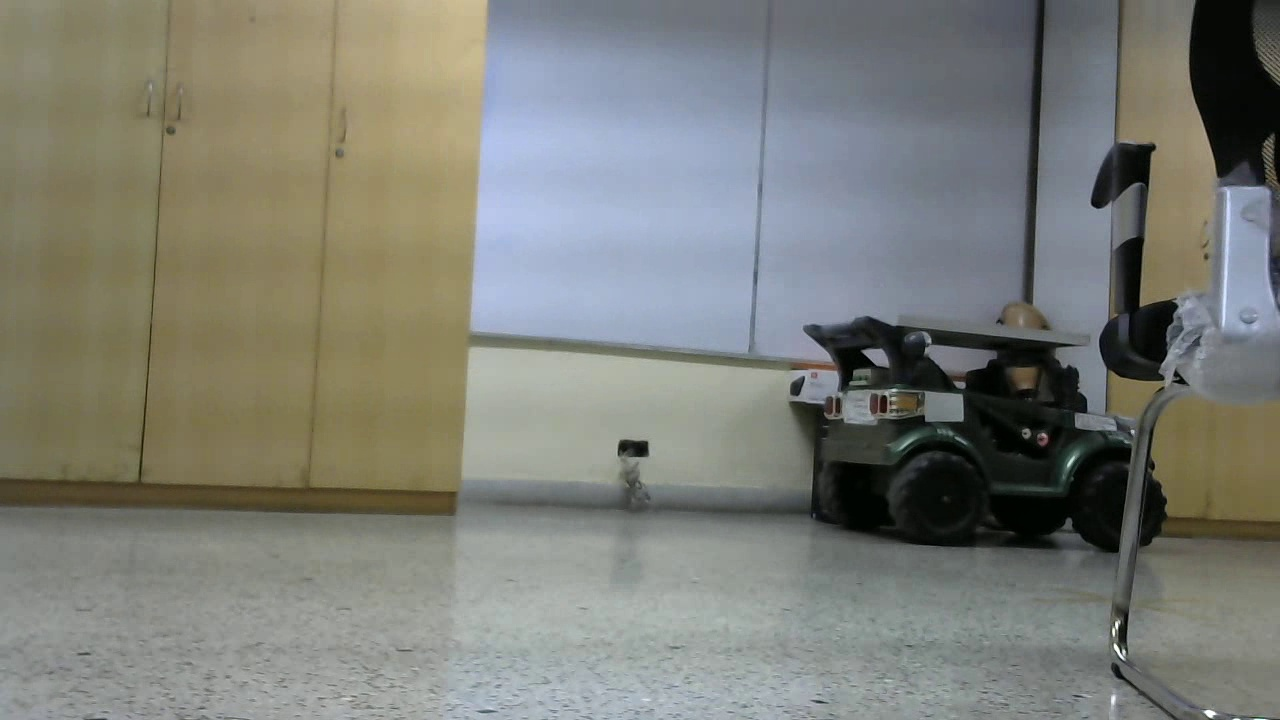chair: (573, 84, 828, 576)
